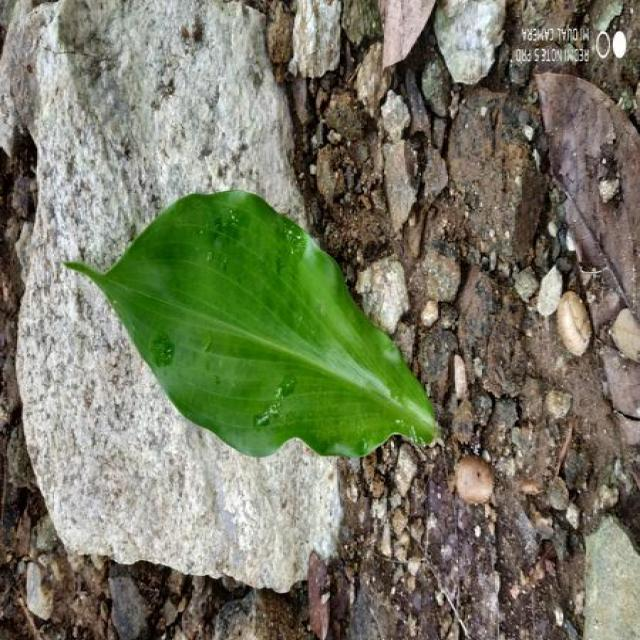insulin: (67, 190, 437, 457)
